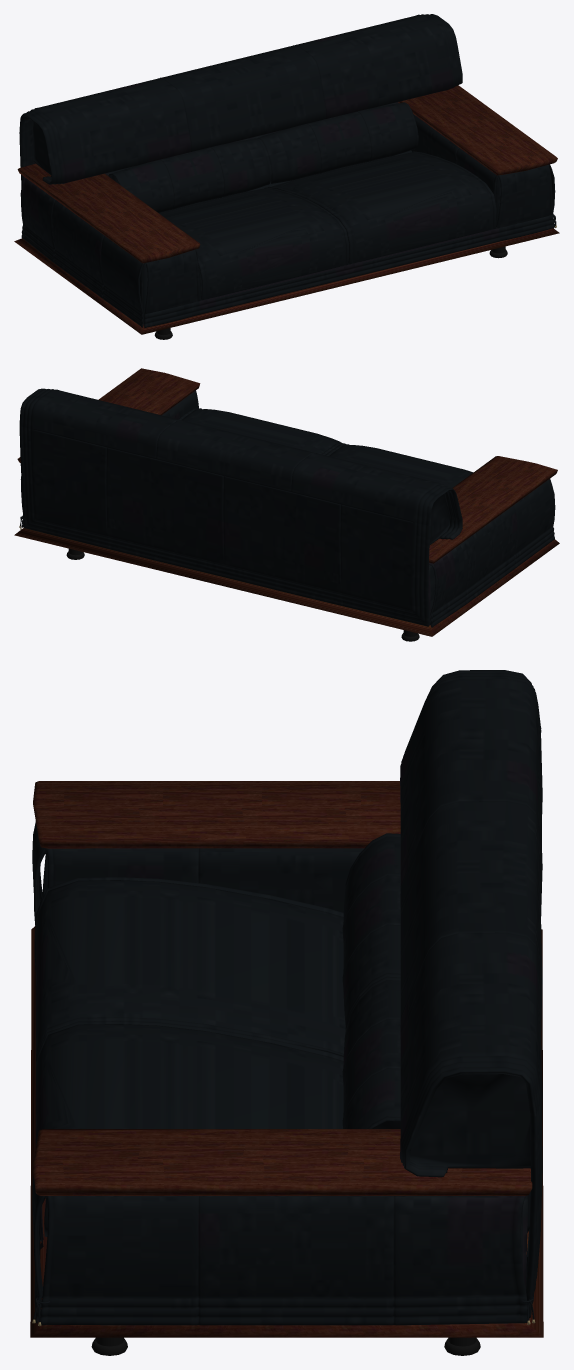
Rendered from sofa_vivente_leather.glb.
3 renders of one model, top to bottom at view 1: azimuth 30°, elevation 25°; view 2: azimuth 150°, elevation 25°; view 3: azimuth 270°, elevation 25°, orthographic. The views are drawn at different scales.
Parts seen in each view (by area): view 1: Base.sp, Arm.Wood, Leg; view 2: Base.sp, Arm.Wood, Leg; view 3: Base.sp, Arm.Wood, Leg, Leg.001.
Part boxes in pixels (left/top/right/bottom): Base.sp: left=19, top=14, right=555, bottom=327; Arm.Wood: left=17, top=85, right=557, bottom=263; Leg: left=14, top=228, right=559, bottom=334; Base.sp: left=19, top=388, right=555, bottom=627; Arm.Wood: left=17, top=368, right=557, bottom=563; Leg: left=14, top=528, right=559, bottom=636; Base.sp: left=32, top=670, right=542, bottom=1325; Arm.Wood: left=33, top=781, right=532, bottom=1195; Leg: left=30, top=926, right=543, bottom=1337; Leg.001: left=91, top=1337, right=480, bottom=1355.
Size of the model in its own units: 1.69 by 0.615 by 0.8962.
6 materials, 6 textured.
